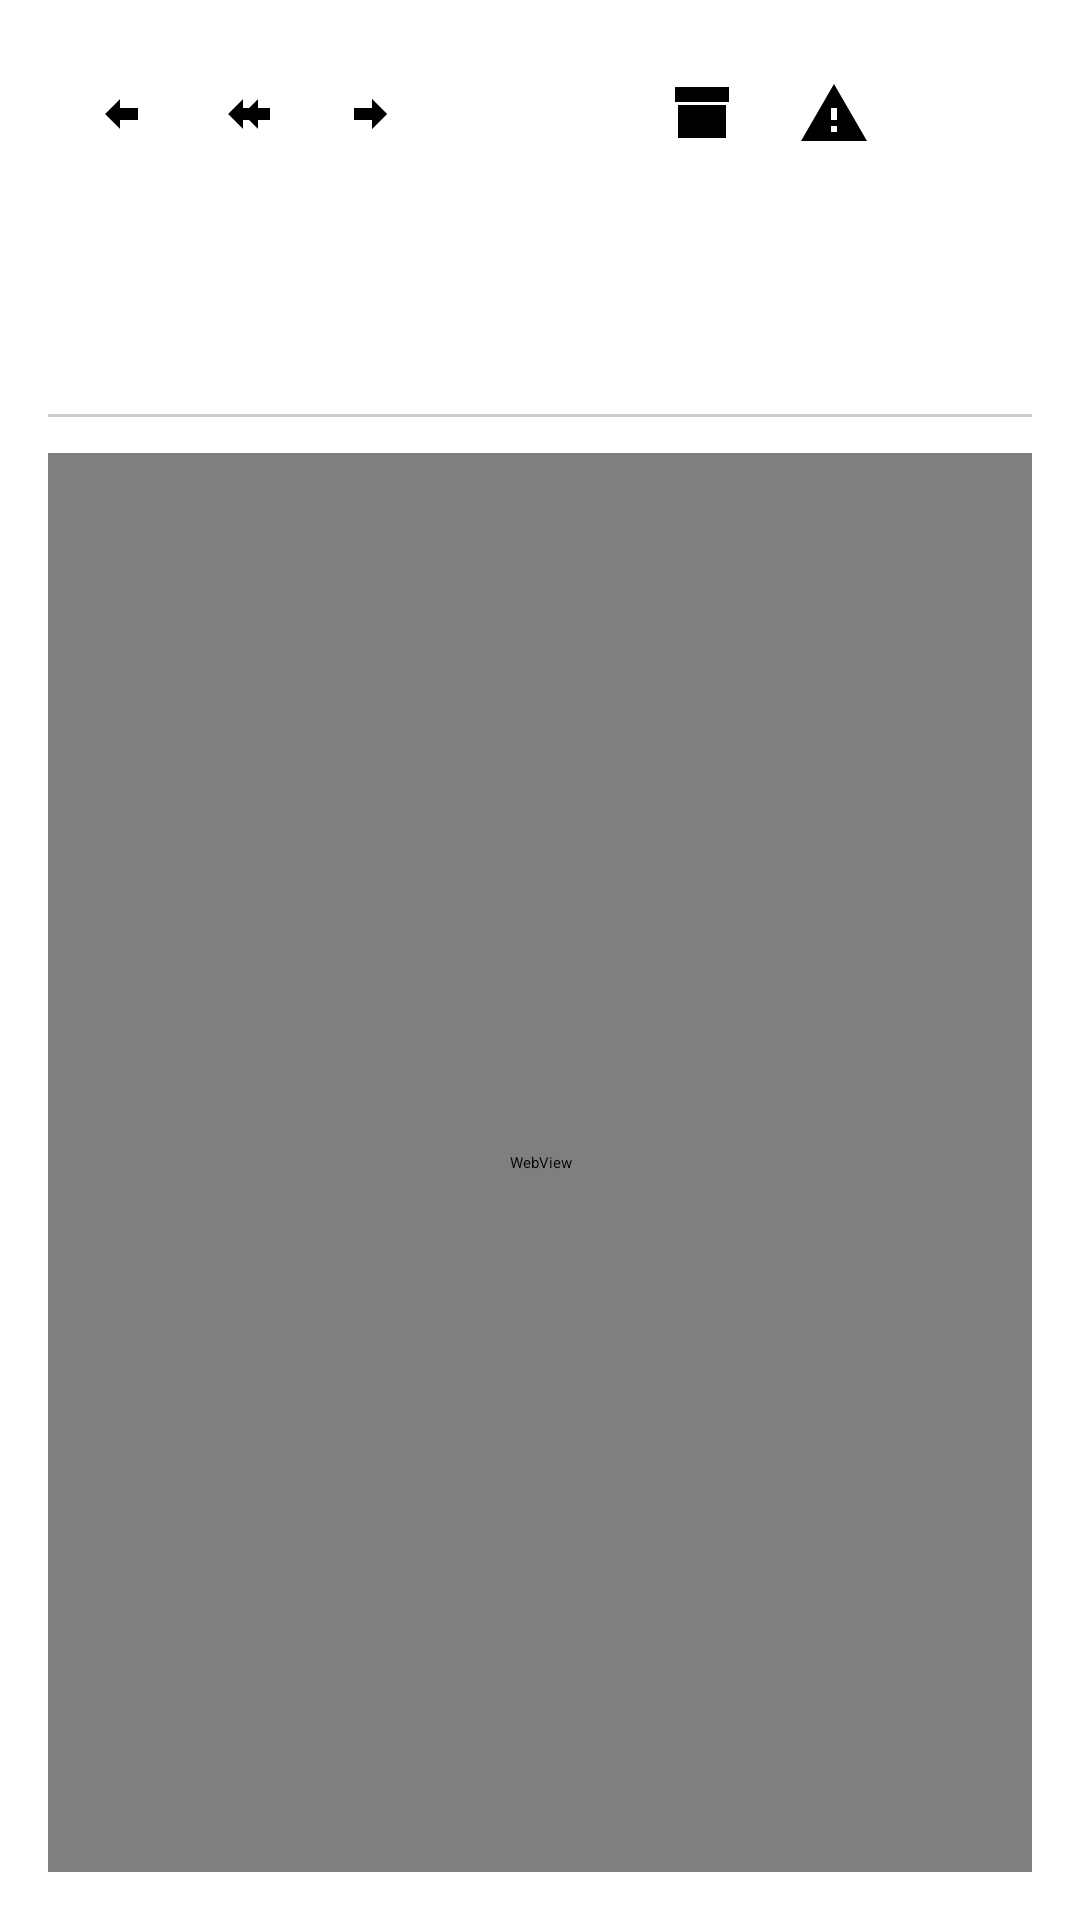

Where to tap for icons on this 1080 × 1920 app screen, as [x,y]:
Forward: [370,114]
Mark as junk: [834,112]
Reply: [121,114]
Reply all: [249,114]
